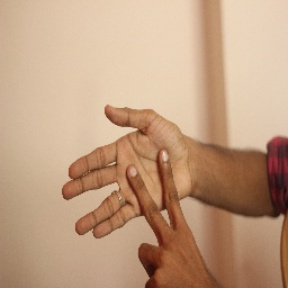N: (58, 100, 200, 288)
